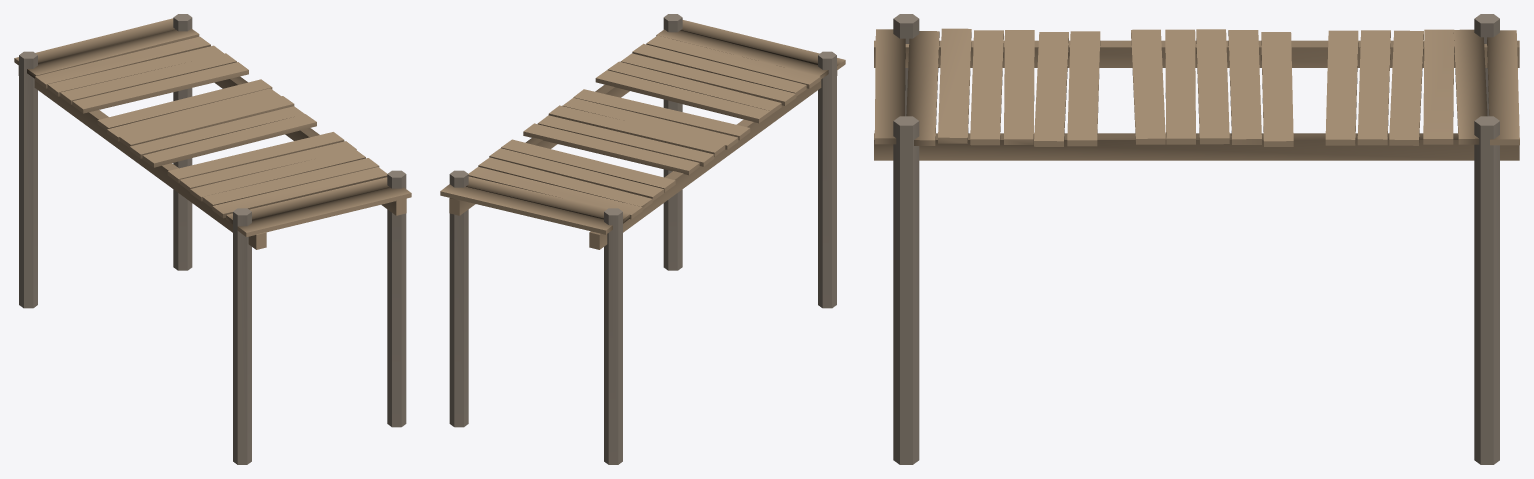
The model's file is boardwalk.glb.
3 renders of one model, left to right at view 1: azimuth 30°, elevation 25°; view 2: azimuth 150°, elevation 25°; view 3: azimuth 270°, elevation 25°, orthographic. The views are drawn at different scales.
Parts seen in each view (by area): view 1: boardwalk; view 2: boardwalk; view 3: boardwalk.
Part boxes in pixels (box(x1,y1,x2,y2)): boardwalk: box(14, 14, 411, 464); boardwalk: box(440, 14, 845, 464); boardwalk: box(874, 14, 1519, 464).
Size of the model in its own units: 1.64 by 2.32 by 4.
